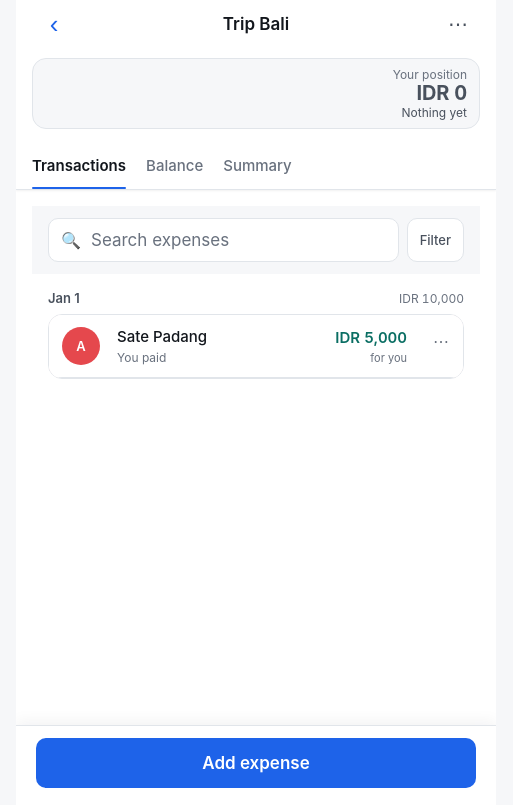
Scenario: GroupDetailScreen › shows a filtered-empty state (offers clearing the filter) when a search matches nothing
Expected: the text "Sate Padang" is shown, x1=117 y1=326 x2=207 y2=346
Type "tidak ada yang begini" into the field labelled "Search expenses" at (237, 240), box x1=89 y1=229 x2=386 y2=251
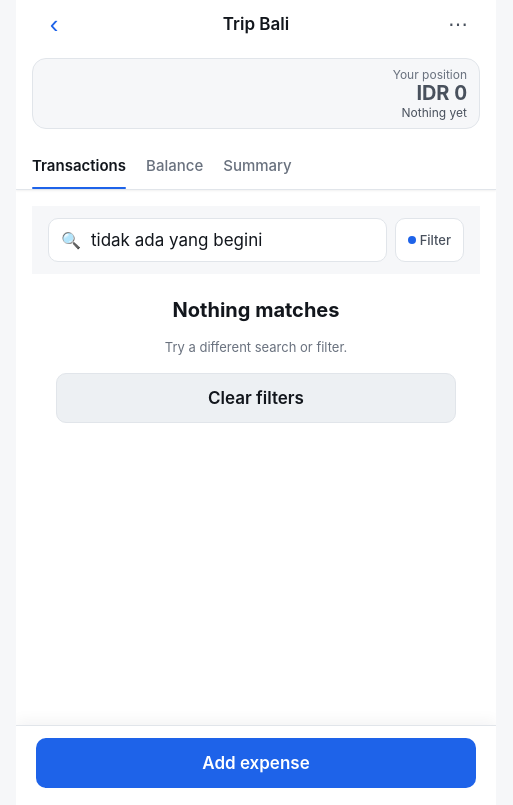
Now the heading "Nothing matches" is shown, box x1=172 y1=298 x2=339 y2=322
